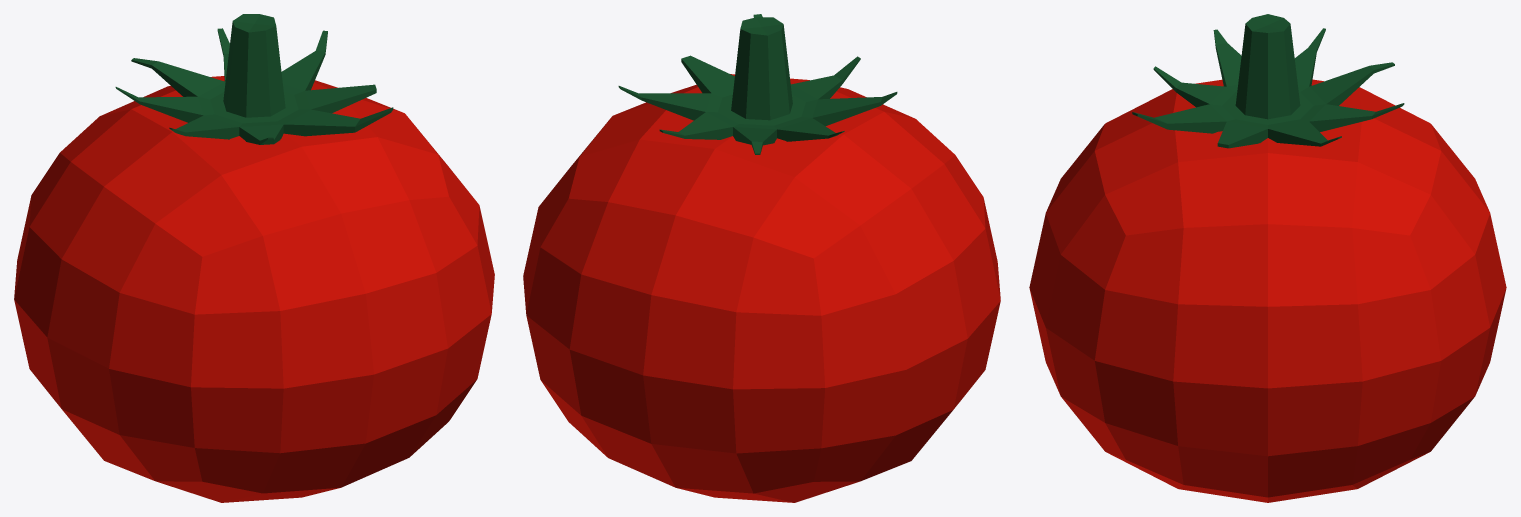
File: Tomato.fbx
3 renders of one model, left to right at view 1: azimuth 30°, elevation 25°; view 2: azimuth 150°, elevation 25°; view 3: azimuth 270°, elevation 25°, orthographic.
Parts seen in each view (by area): view 1: Tomato; view 2: Tomato; view 3: Tomato.
Part boxes in pixels (x1=…): Tomato: x1=14, y1=14, x2=494, y2=502; Tomato: x1=523, y1=14, x2=1000, y2=502; Tomato: x1=1029, y1=14, x2=1506, y2=502.
Bounding box in the file's own units: 37.12 × 38.83 × 37.12.
